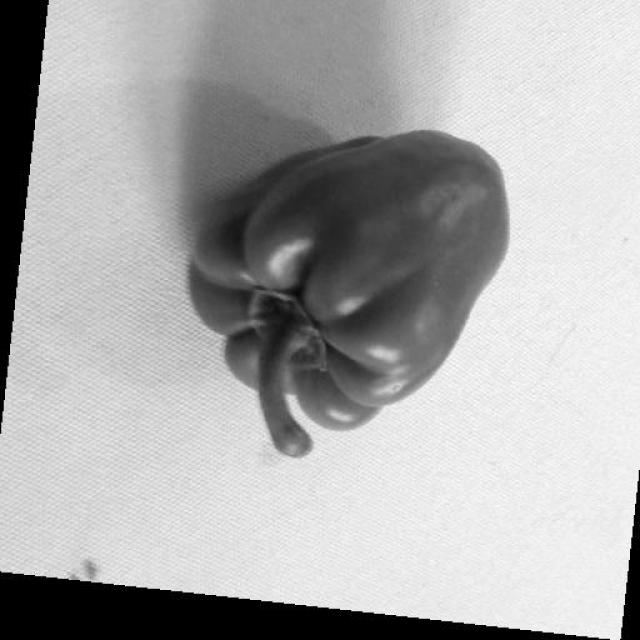Fresh_Capsicum: (225, 153, 502, 444)
